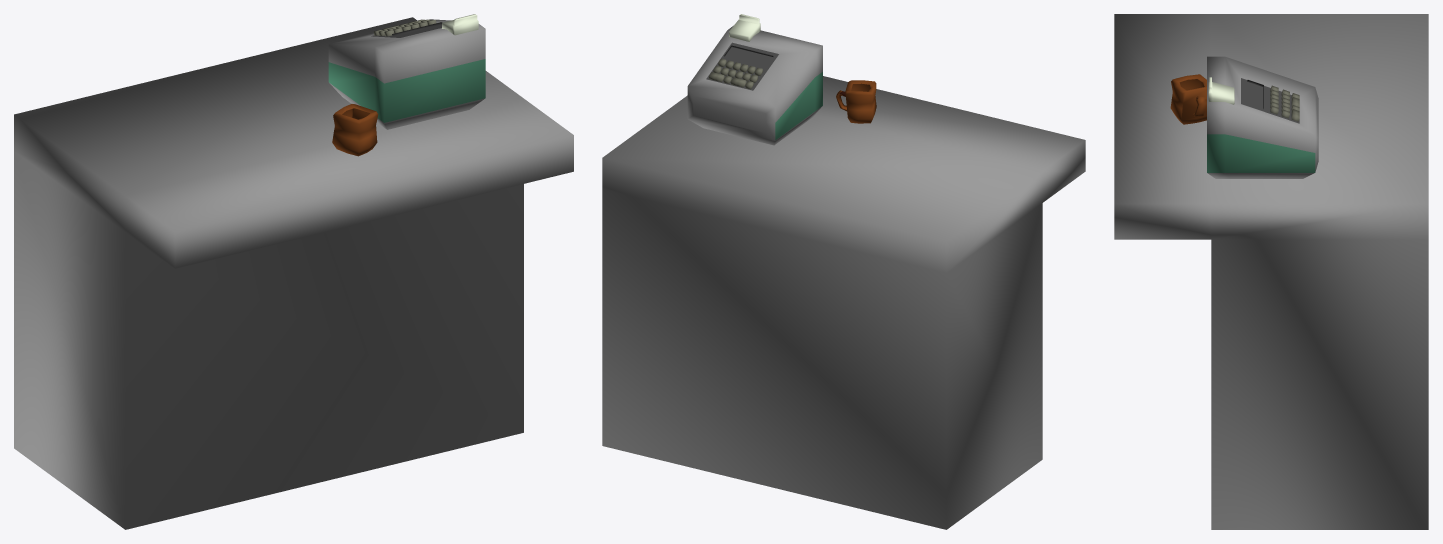
The model's file is MainCounter.glb.
The picture shows the model from 3 angles, left to right: view 1: azimuth 30°, elevation 25°; view 2: azimuth 150°, elevation 25°; view 3: azimuth 270°, elevation 25°; orthographic projection. The views are drawn at different scales.
Visible parts, largest first — view 1: Counter, CashRegister, CoffeeMug.003; view 2: Counter, CashRegister, CoffeeMug.003; view 3: Counter, CashRegister, CoffeeMug.003.
Boxes of the visible parts, x1,y1,x2,y2 form: Counter: (14,17,573,529); CashRegister: (328,14,485,129); CoffeeMug.003: (332,104,378,156); Counter: (602,76,1085,529); CashRegister: (687,14,822,145); CoffeeMug.003: (836,80,876,123); Counter: (1114,14,1428,529); CashRegister: (1207,56,1318,178); CoffeeMug.003: (1170,74,1206,124).
Bounding box in the file's own units: 9.98 × 10.29 × 6.98.
